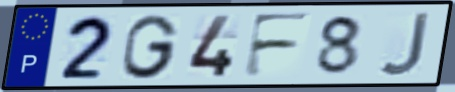2: (56, 11, 118, 84)
4: (186, 13, 237, 79)
8: (313, 13, 364, 77)
F: (239, 11, 315, 80)
G: (120, 13, 182, 81)
J: (376, 10, 433, 79)
